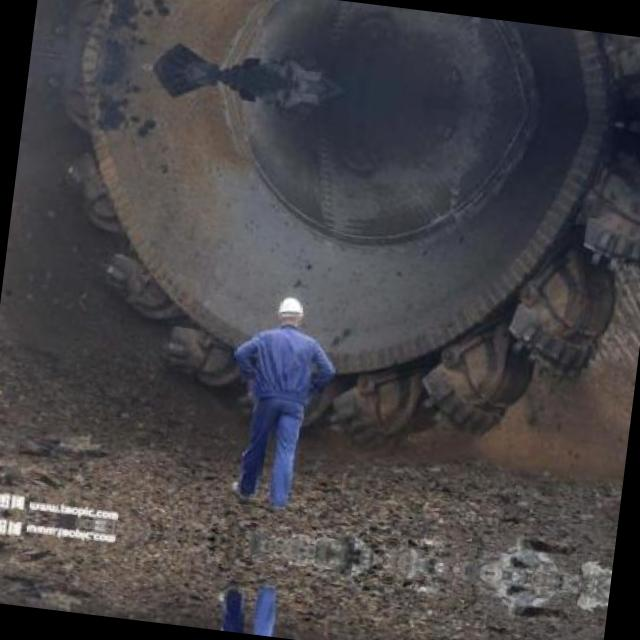helmet: (270, 291, 308, 332)
